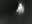person: (17, 4, 25, 16)
